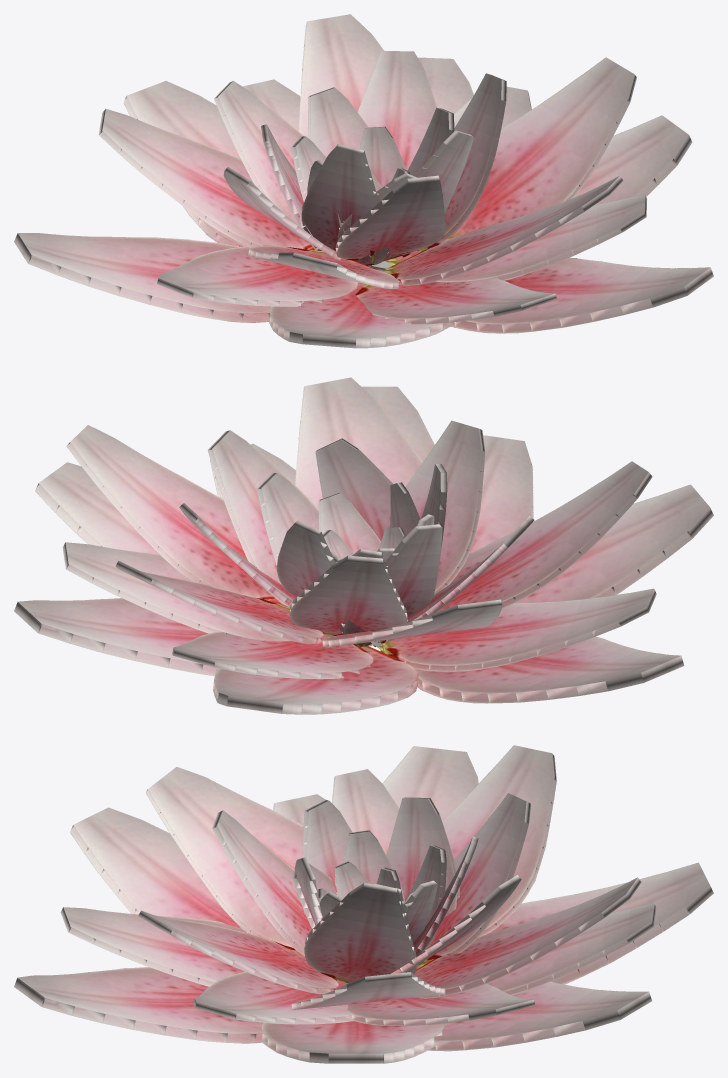
File: Lotus.fbx
3 views of the same model, one above another, from view 1: azimuth 30°, elevation 25°; view 2: azimuth 150°, elevation 25°; view 3: azimuth 270°, elevation 25° (orthographic). The views are drawn at different scales.
Parts seen in each view (by area): view 1: Group3, Group2; view 2: Group3, Group2; view 3: Group3, Group2.
Boxes of the visible parts, x1=… form: Group3: x1=98, y1=14, x2=647, y2=324; Group2: x1=14, y1=57, x2=713, y2=348; Group3: x1=62, y1=377, x2=656, y2=679; Group2: x1=14, y1=386, x2=713, y2=714; Group3: x1=60, y1=745, x2=656, y2=1025; Group2: x1=14, y1=746, x2=713, y2=1063.
Size of what is drawn, in the model's own units: 3.7 by 0.9804 by 3.51.
1 material, 1 textured.
